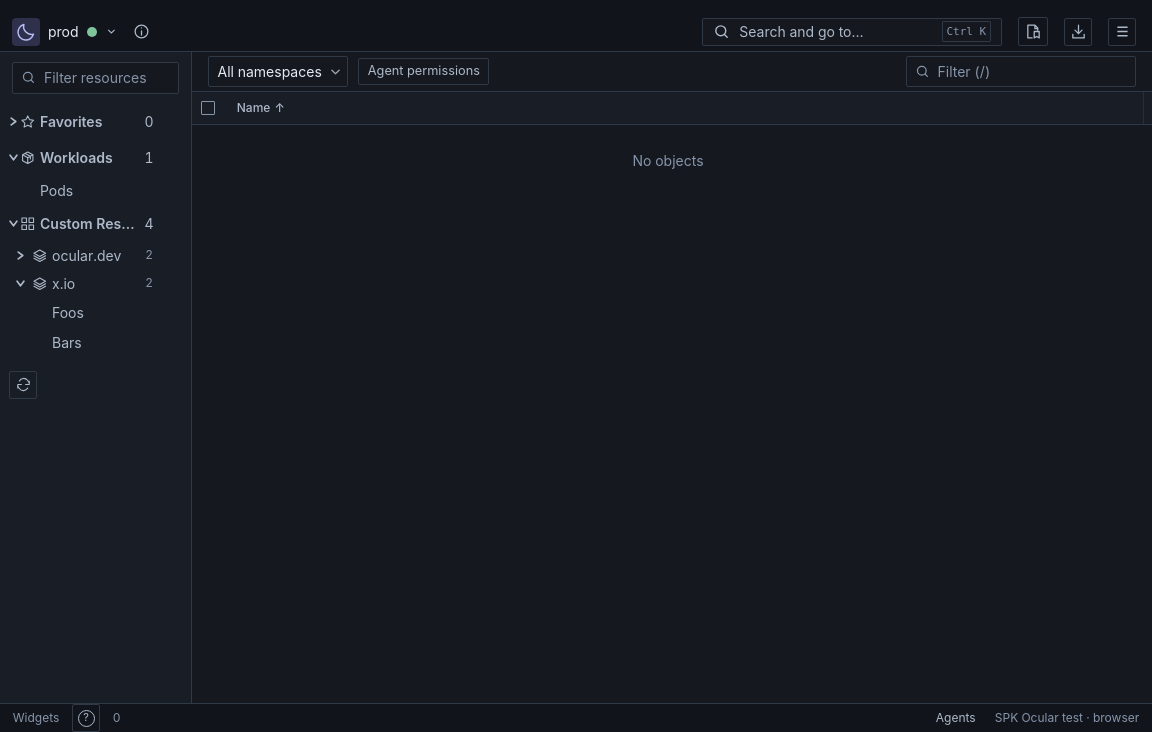
navigation of discovered kinds › remembers expansion and selection while a collapsed subgroup hides every kind
The image size is (1152, 732).
Check: the button "Gadgets" is not shown
Click the button "ocular.dev 2": x=86, y=256 [10, 242, 161, 270]
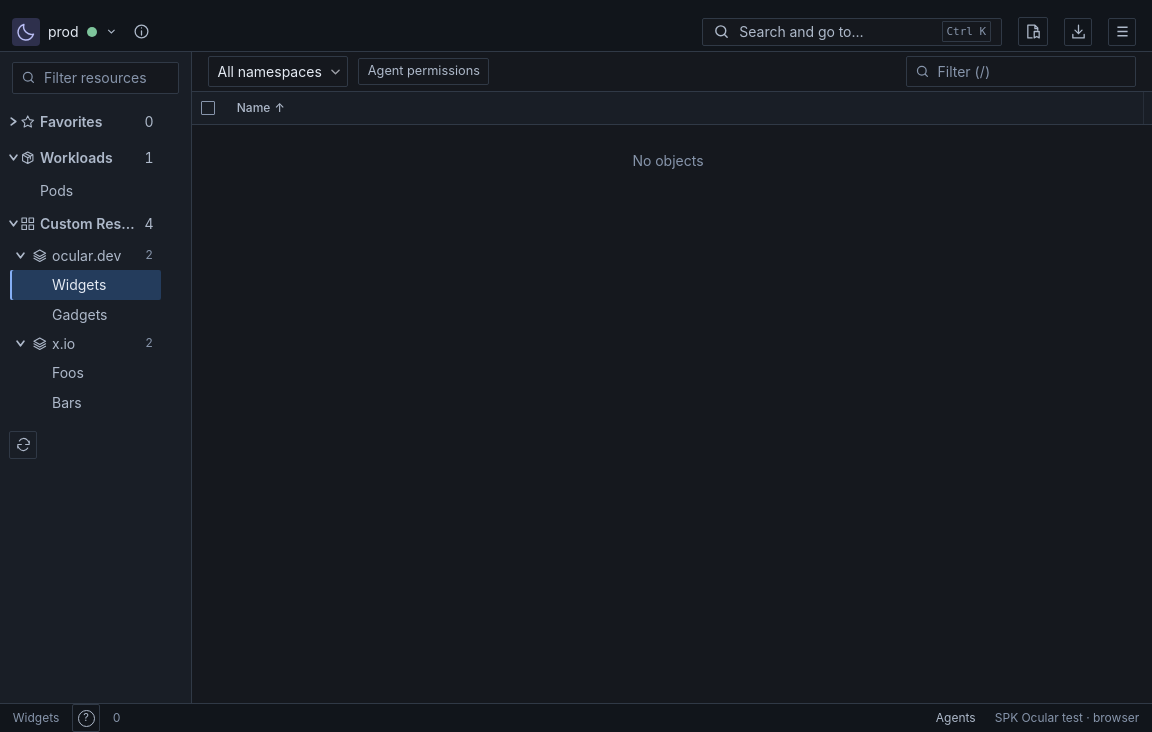
Check: the button "Foos" is shown, box [10, 358, 161, 388]
Check: the button "Gadgets" is shown, box [10, 300, 161, 330]
